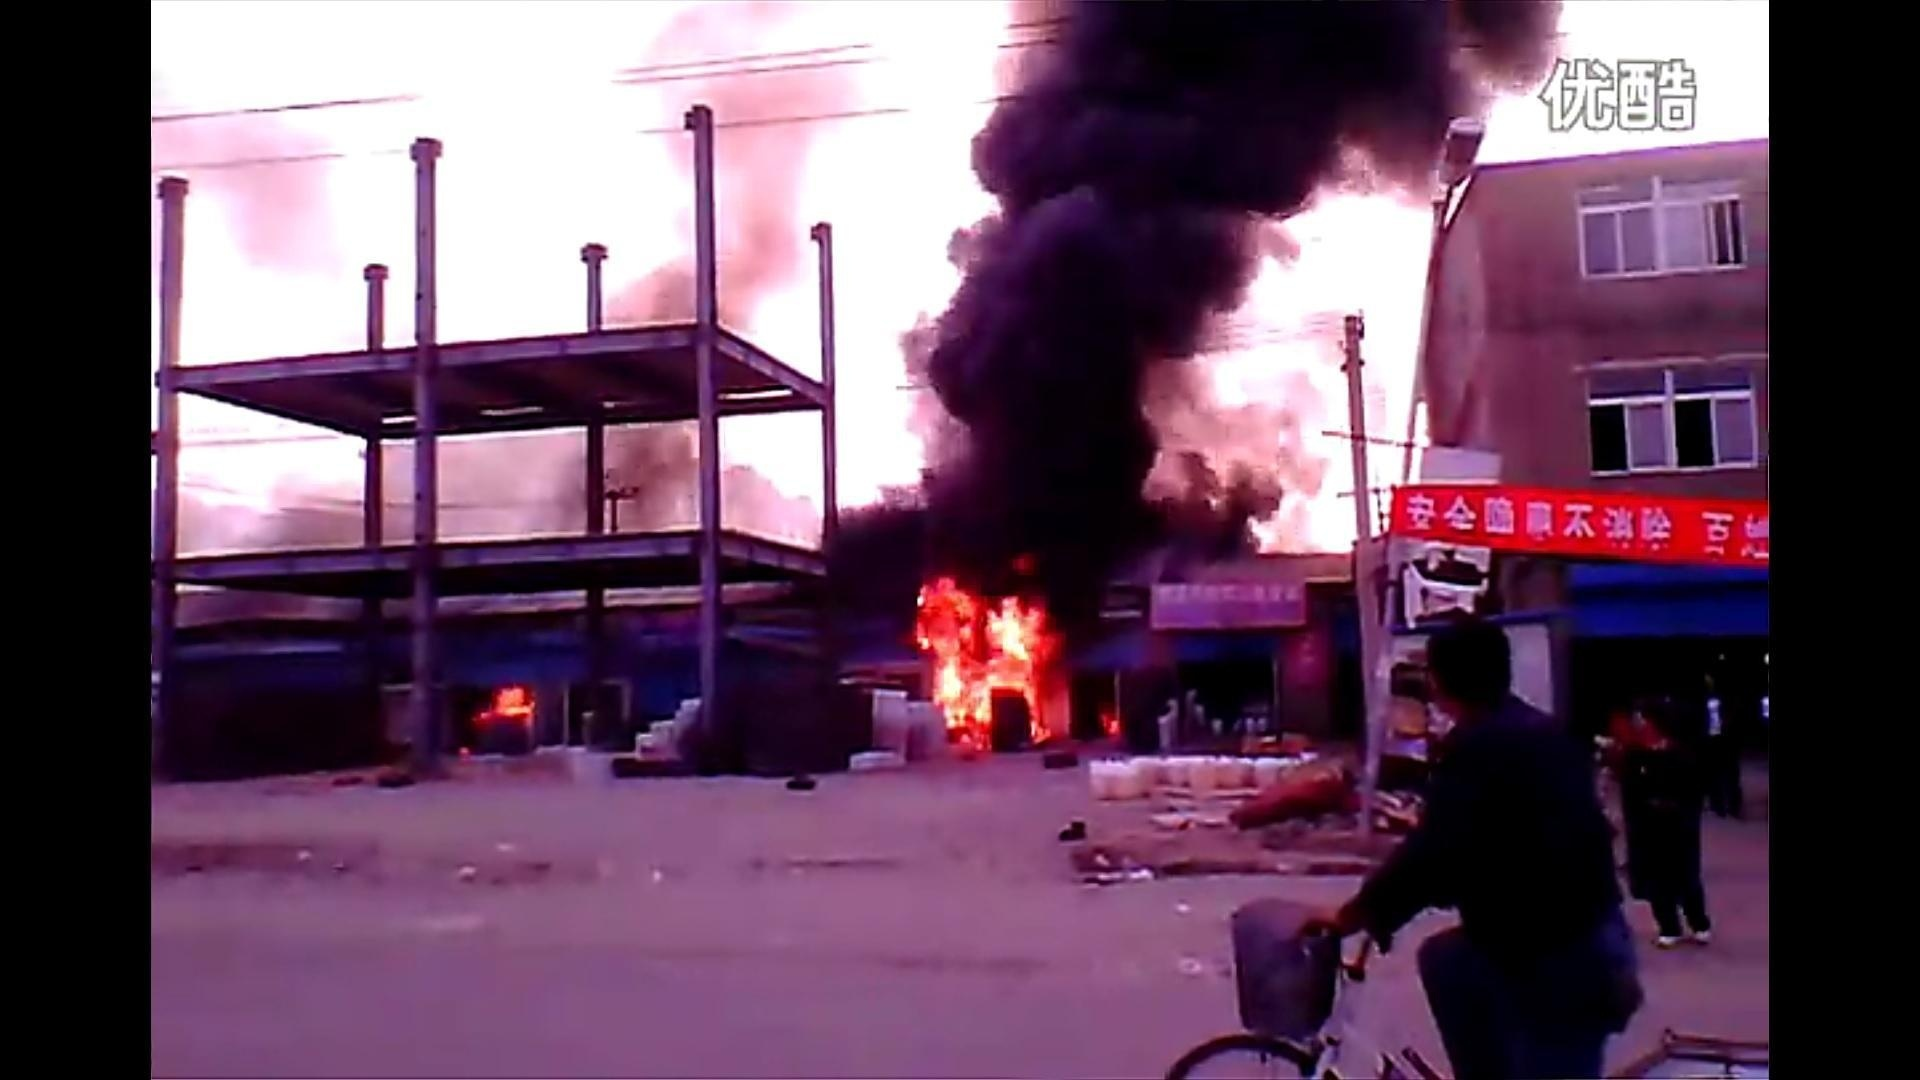fire: (913, 572, 1063, 746), (471, 679, 541, 728)
